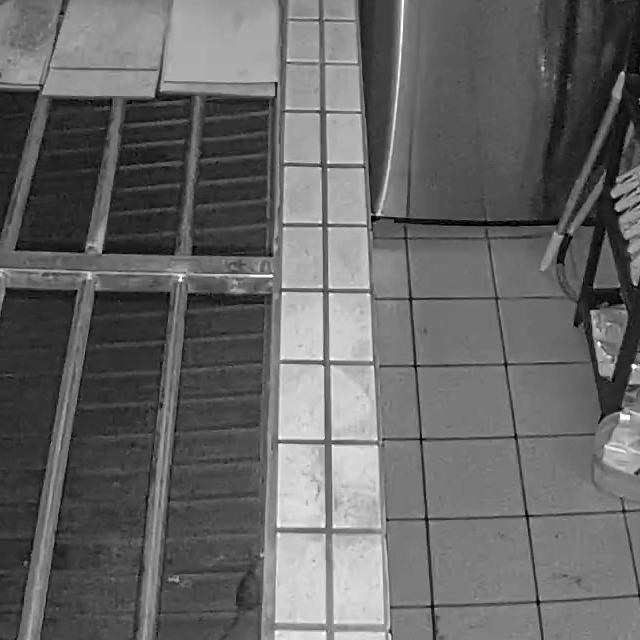rat: (218, 550, 266, 640)
